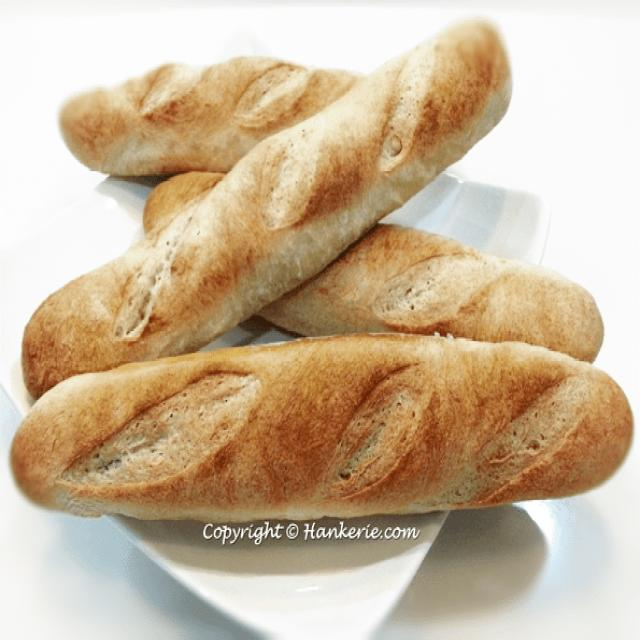Baguette: (22, 20, 511, 397), (11, 334, 632, 521), (260, 224, 602, 360), (59, 57, 360, 176), (144, 171, 219, 231)
